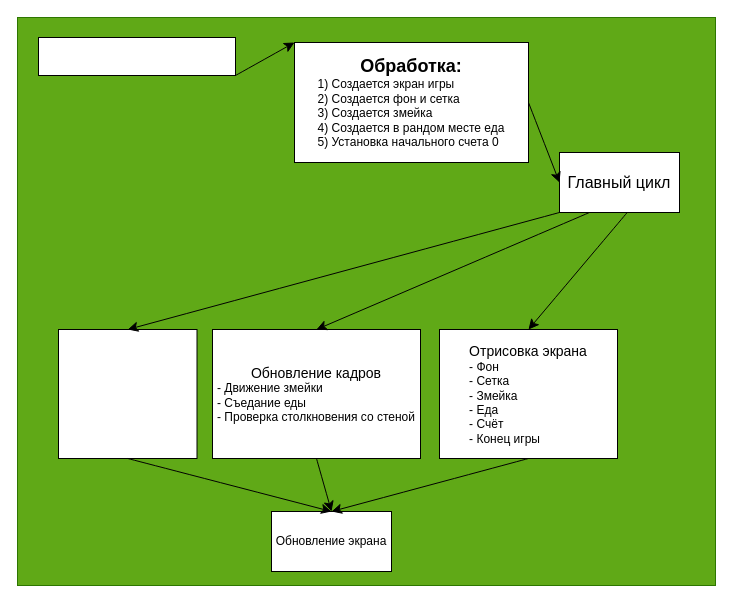
Image size: 733x603. Some labels were removed from this diagram. Each missing label, with the box of its shape:
Запуск программы в (VS Code): (38, 36, 236, 76)
Проверка событий - Выход из игры - Нажатие стрелок - Перезапуск (пробел): (58, 328, 197, 458)
